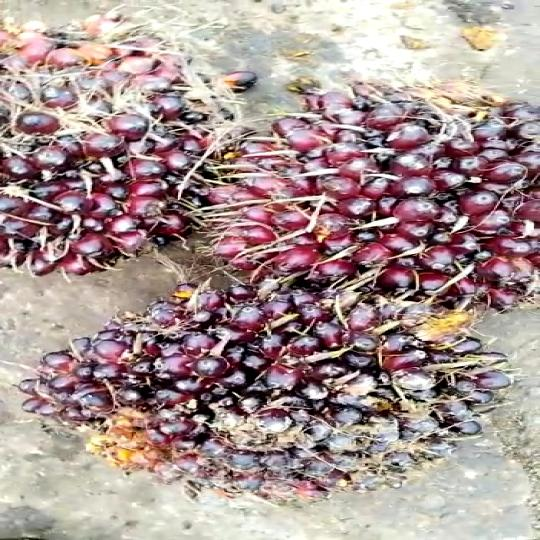kurang masak: (60, 279, 486, 497), (231, 71, 540, 326), (0, 26, 234, 287)
